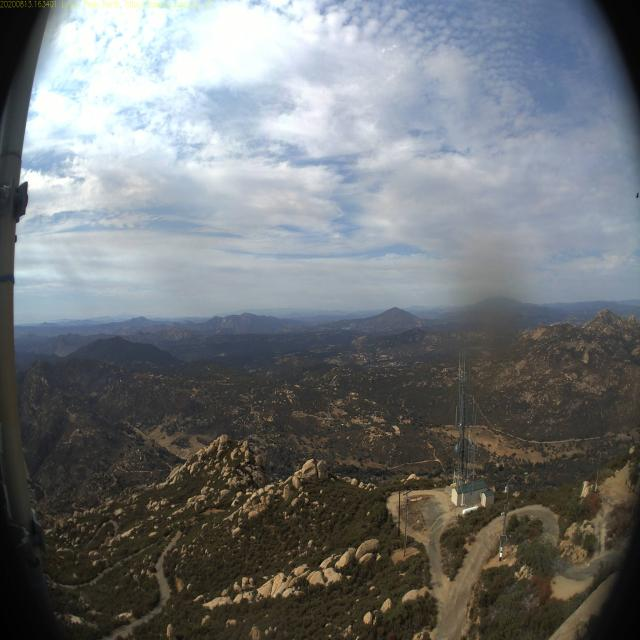smoke: (335, 313, 370, 334)
